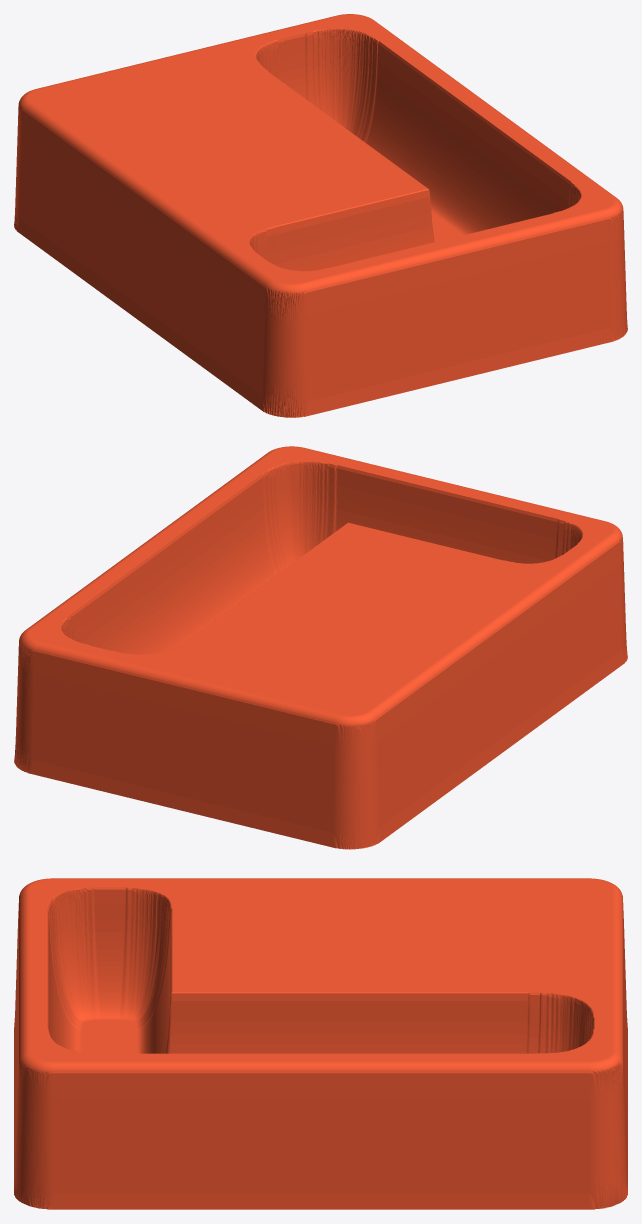
File: mold.glb
The picture shows the model from 3 angles, top to bottom: view 1: azimuth 30°, elevation 25°; view 2: azimuth 150°, elevation 25°; view 3: azimuth 270°, elevation 25°; orthographic projection. The views are drawn at different scales.
Parts seen in each view (by area): view 1: geometry_0; view 2: geometry_0; view 3: geometry_0.
Boxes of the visible parts, x1,y1,x2,y2 form: geometry_0: (14,14,627,417); geometry_0: (14,446,627,849); geometry_0: (14,878,627,1209).
Size of the model in its own units: 0.1079 by 0.0365 by 0.1435.
